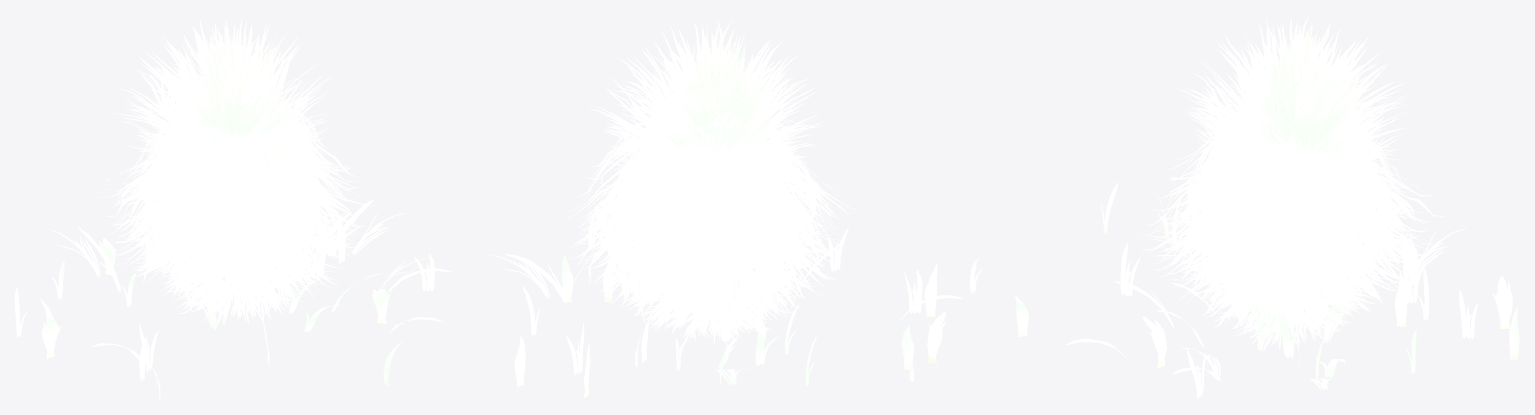
3 views of the same model, side by side, from view 1: azimuth 30°, elevation 25°; view 2: azimuth 150°, elevation 25°; view 3: azimuth 270°, elevation 25° (orthographic). The views are drawn at different scales.
Visible parts, largest first — view 1: SM_SwampSedge_03_LOD0; view 2: SM_SwampSedge_03_LOD0; view 3: SM_SwampSedge_03_LOD0.
Part boxes in pixels (x1,y1,x2,y2): SM_SwampSedge_03_LOD0: (14,17,451,398); SM_SwampSedge_03_LOD0: (490,19,982,398); SM_SwampSedge_03_LOD0: (1015,17,1519,399).
Bounding box in the file's own units: 1.29 × 0.861 × 1.32.
1 material, 1 textured.
